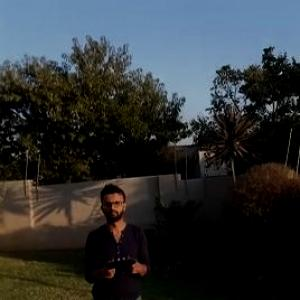follow: (80, 180, 156, 299)
